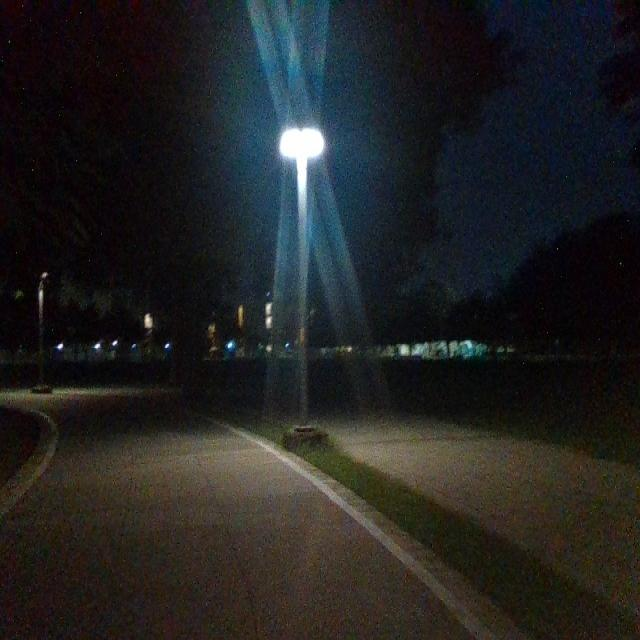lane: (2, 402, 479, 640)
